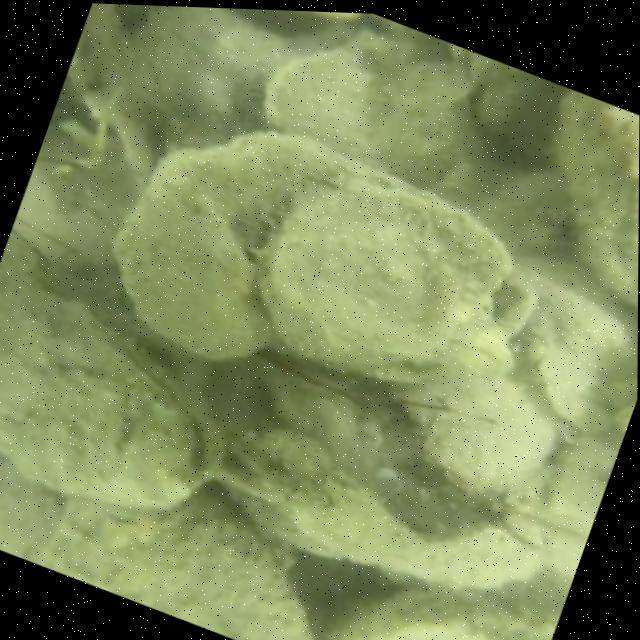Oyster-Closed: (0, 240, 224, 509)
Oyster-Indeterminate: (117, 132, 331, 362), (56, 489, 316, 640), (264, 42, 463, 179), (421, 375, 552, 507), (556, 108, 639, 306), (336, 590, 548, 640), (0, 458, 61, 555), (246, 429, 330, 493), (550, 443, 603, 529)
Oyster-Open: (263, 174, 541, 379)
